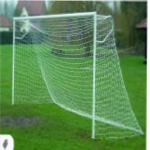goals: (11, 11, 144, 143)
